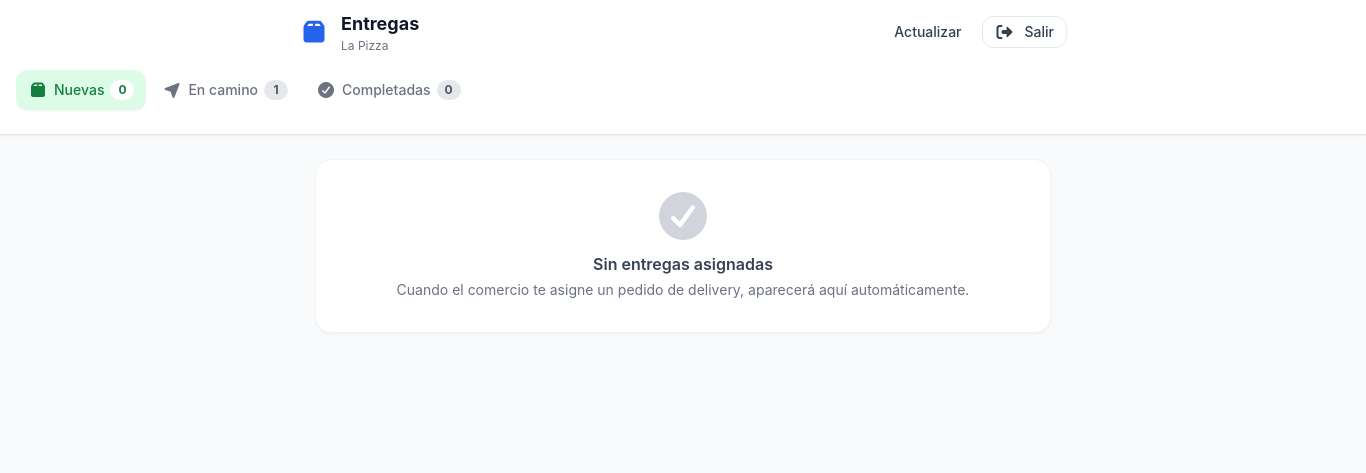
Test: DriverDeliveriesPage › no muestra botón "Marcar como entregado" en pedidos en camino
Click the tab with test id "tab-inTransit".
click(225, 90)  # box [150, 70, 300, 110]
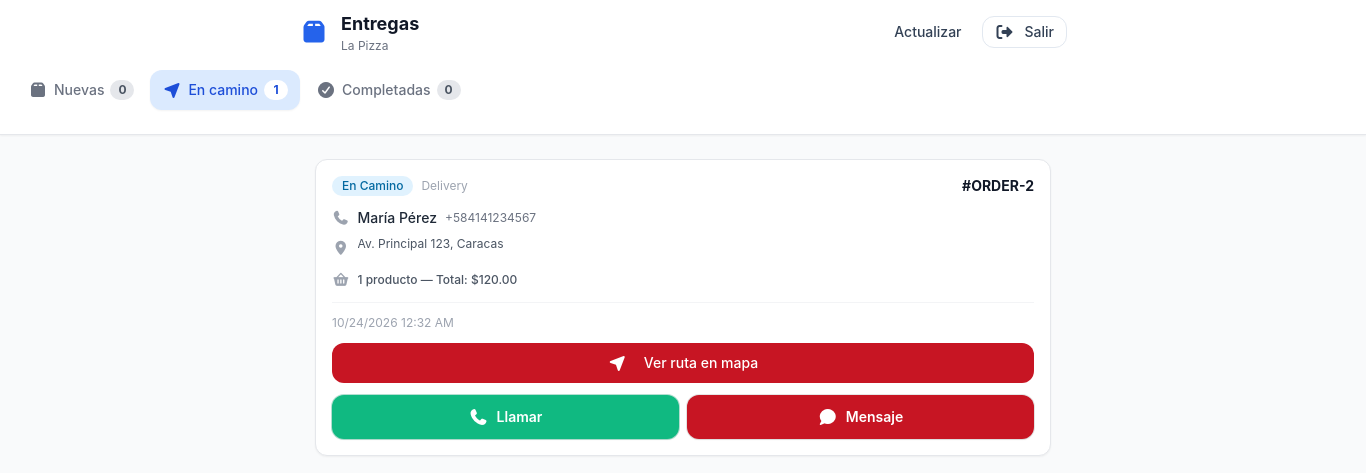
Result: the button "Ver ruta en mapa" is shown at [332, 343, 1034, 383]
